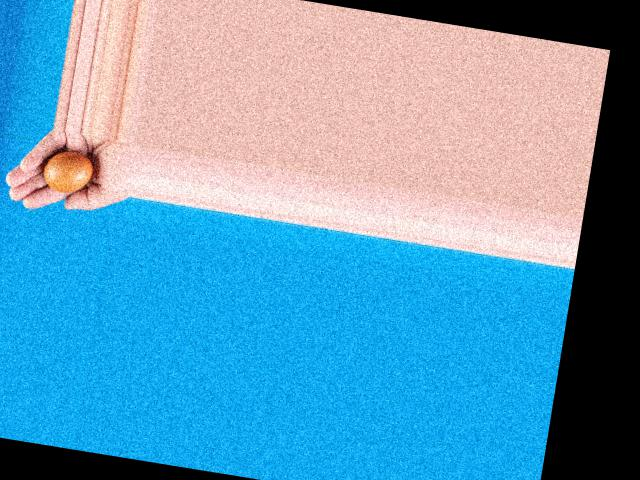egg: (40, 148, 94, 195)
